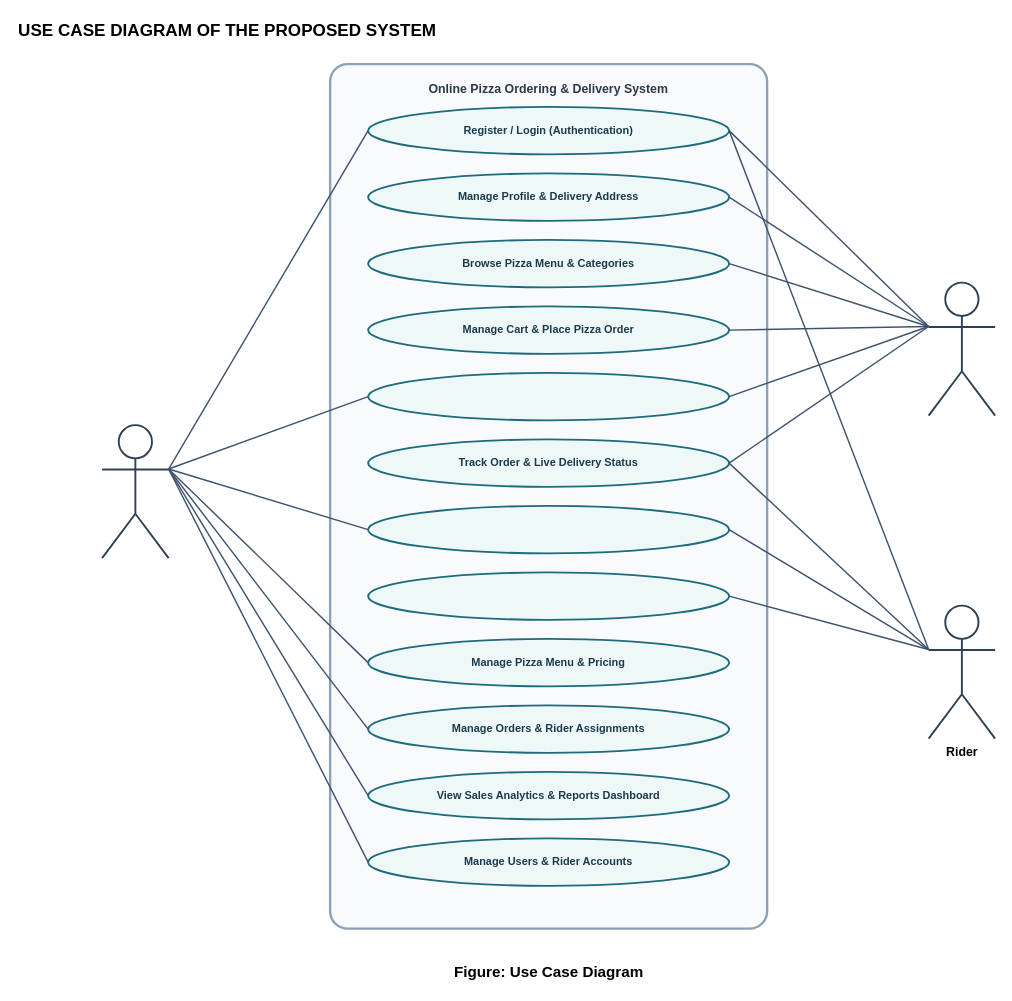
The diagram is 1012 pixels wide and 1001 high, and some of its shapes have lost their labels. The shapes that lost their labels are listed below. From the top down, each one's box as (x1, y1, x2, y2) in pixels, then its label:
(927, 281, 996, 416): Customer
(367, 371, 730, 421): Process Payment & View Receipt
(101, 424, 169, 559): Administrator
(367, 504, 730, 554): Manage Assigned Deliveries
(367, 571, 730, 620): Update Delivery Status & Location
